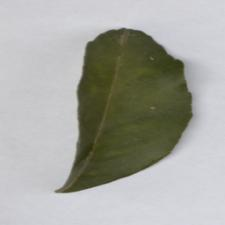Healthy: (70, 42, 187, 184)
